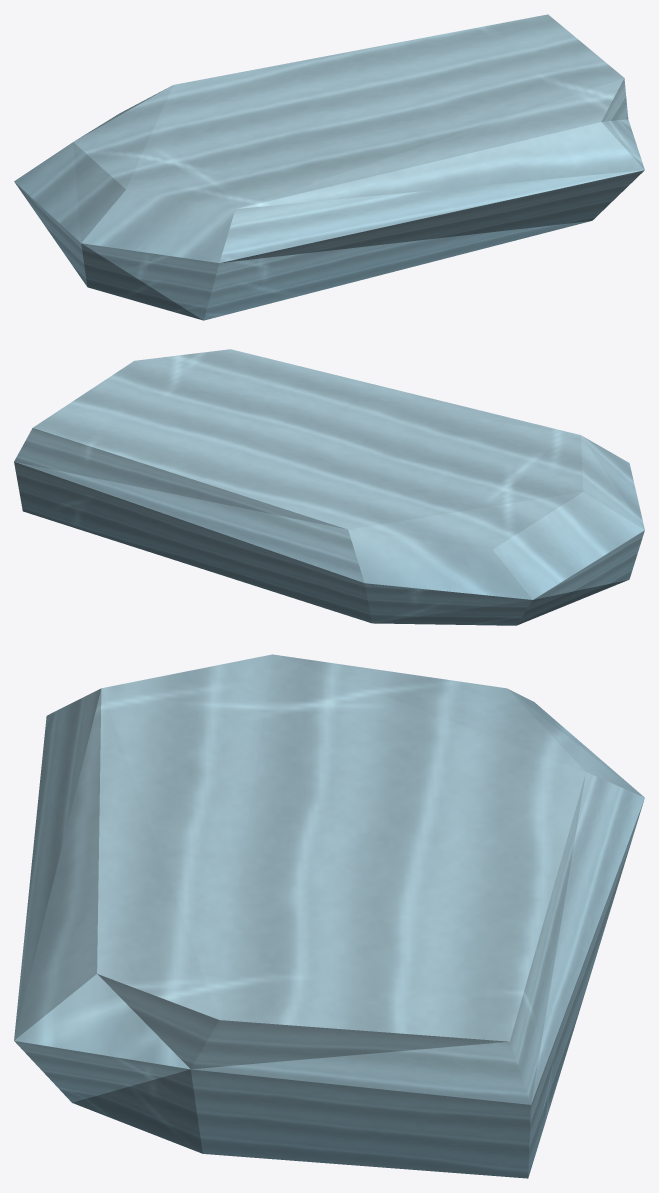
File: ice_tabular_floe.glb
The picture shows the model from 3 angles, top to bottom: view 1: azimuth 30°, elevation 25°; view 2: azimuth 150°, elevation 25°; view 3: azimuth 270°, elevation 25°; orthographic projection. The views are drawn at different scales.
Visible parts, largest first — view 1: ice_tabular_floe; view 2: ice_tabular_floe; view 3: ice_tabular_floe.
Part boxes in pixels (box(x1,y1,x2,y2)): ice_tabular_floe: box(14, 14, 644, 320); ice_tabular_floe: box(14, 349, 644, 625); ice_tabular_floe: box(14, 654, 644, 1178).
Size of the model in its own units: 3.08 by 0.47 by 1.87.
Materials: 1 (1 with a texture image).
